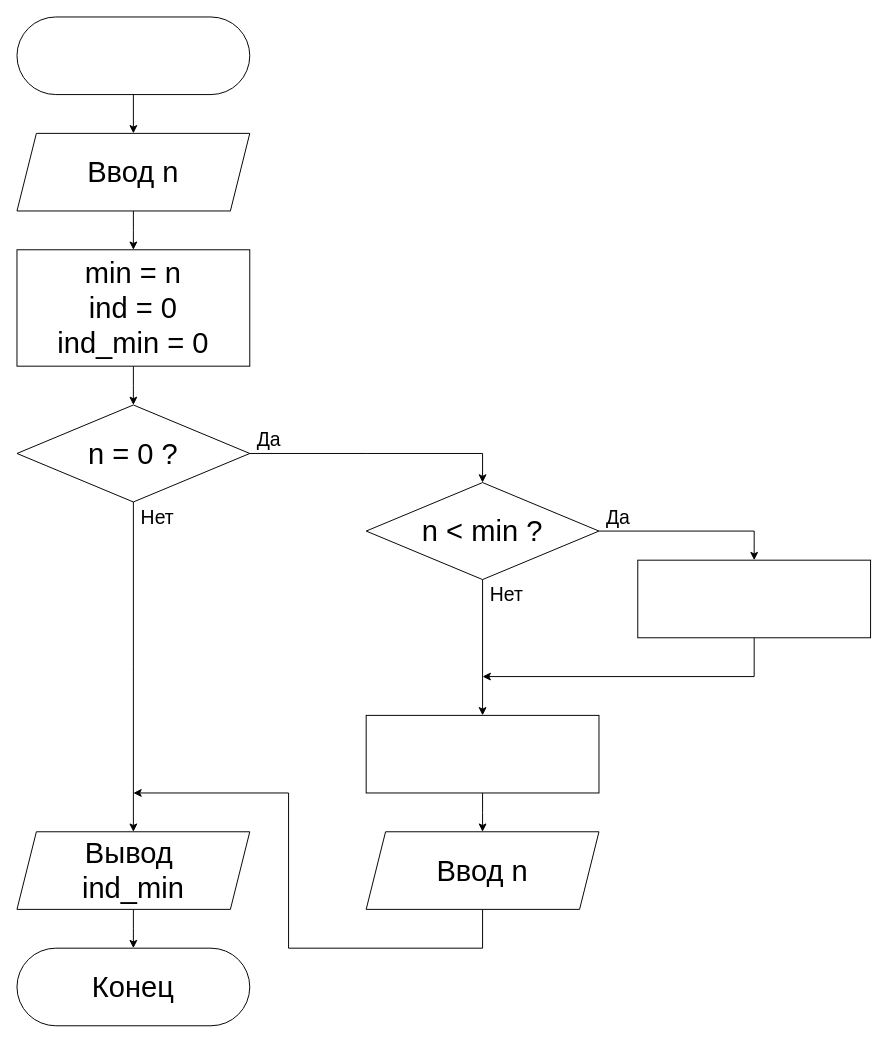
Some shapes in this 888 by 1043 pixel diagram are drawn without their labels. Here are the shapes that lost their labels. From the top down, the centre of each, then its label:
At point (133, 55): "Начало".
At point (754, 598): "min = n ind_min = ind".
At point (482, 753): "ind = ind + 1".
